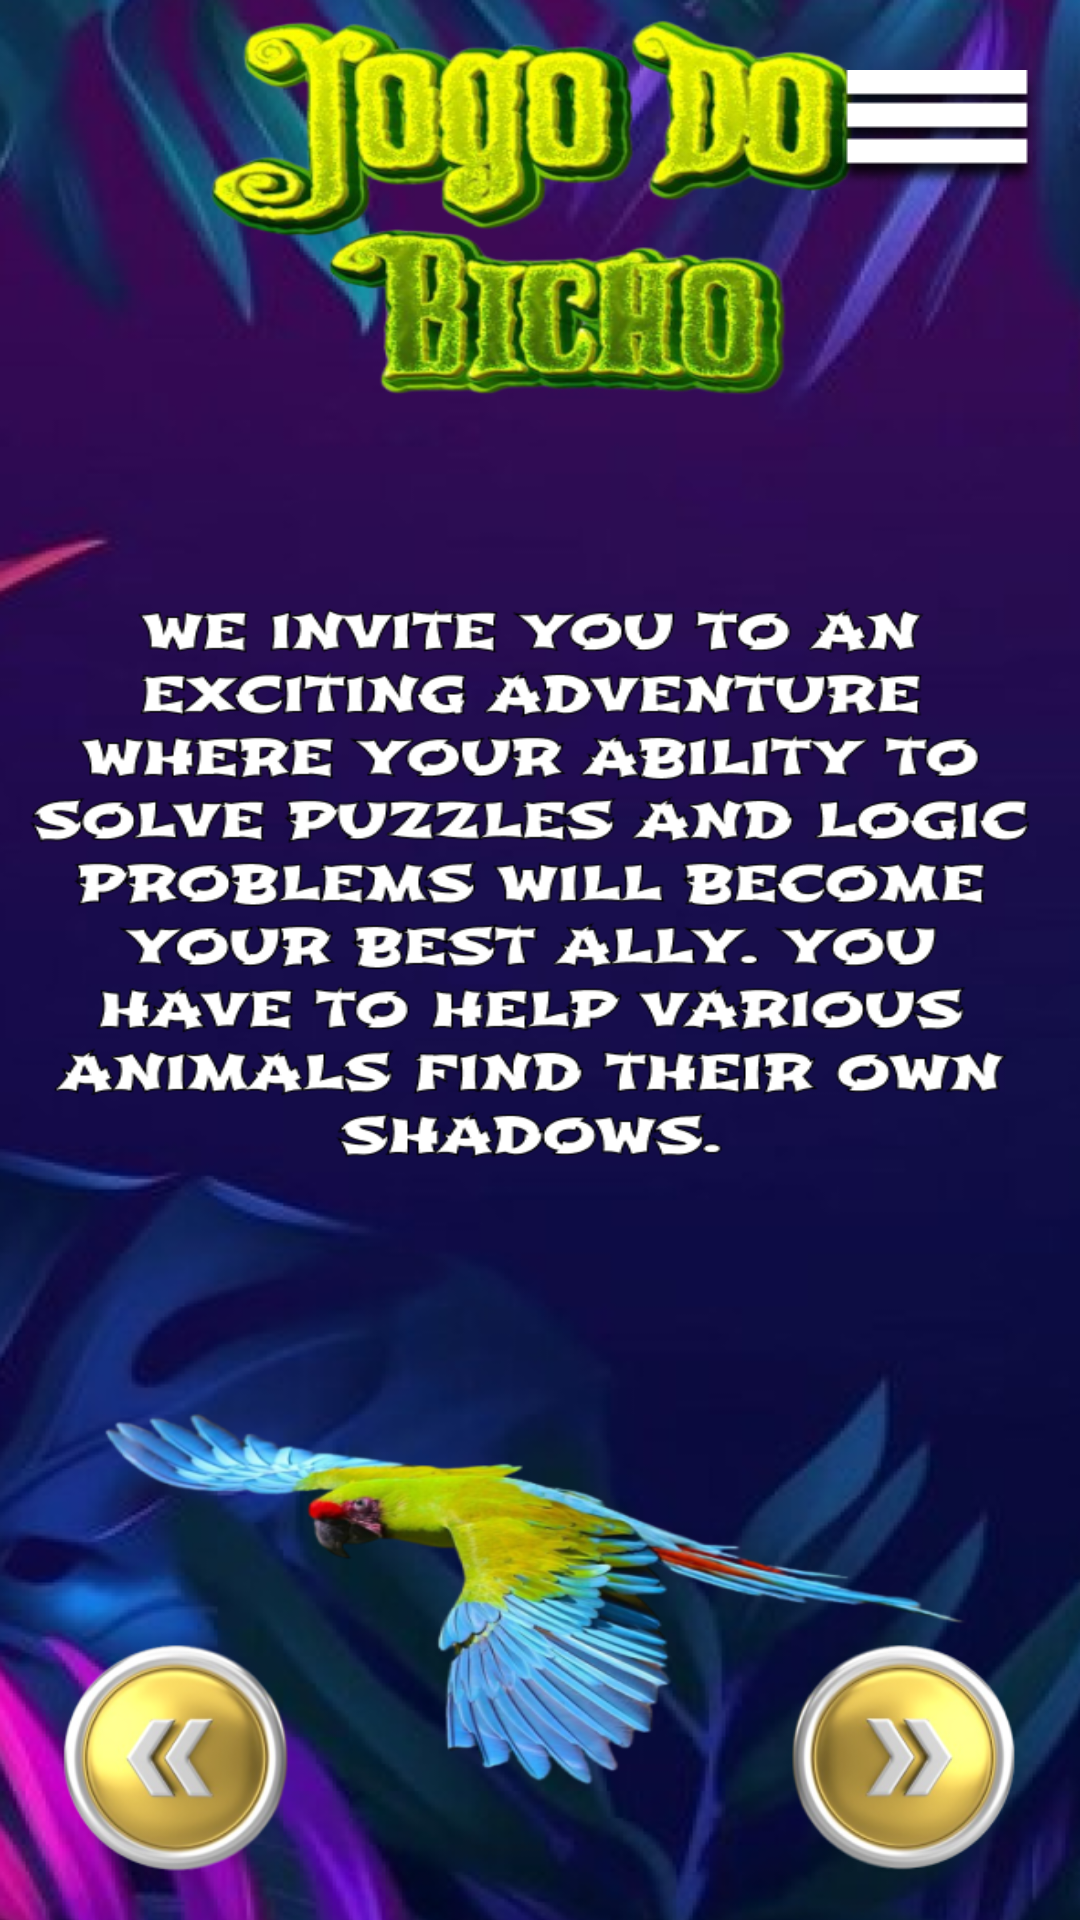

Icon click points for this 1080px×1920px phone screenshot, format point (x, y):
back tap: point (173, 1758)
next tap: point (905, 1758)
